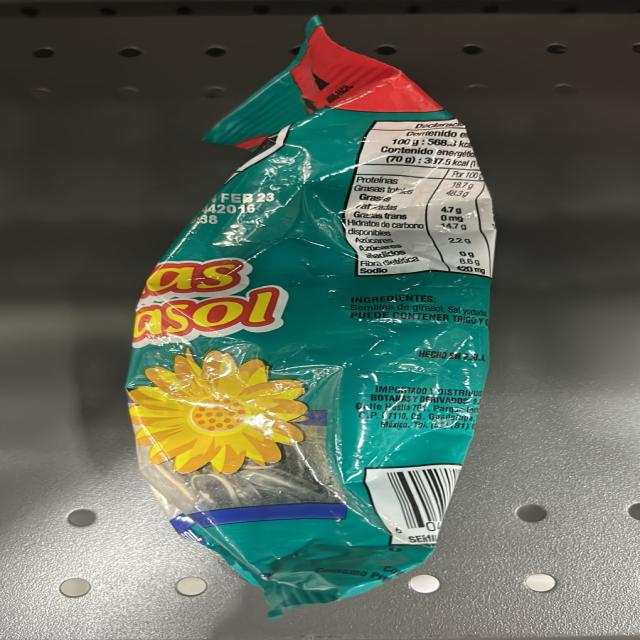semillasGirasol: (187, 101, 453, 573)
